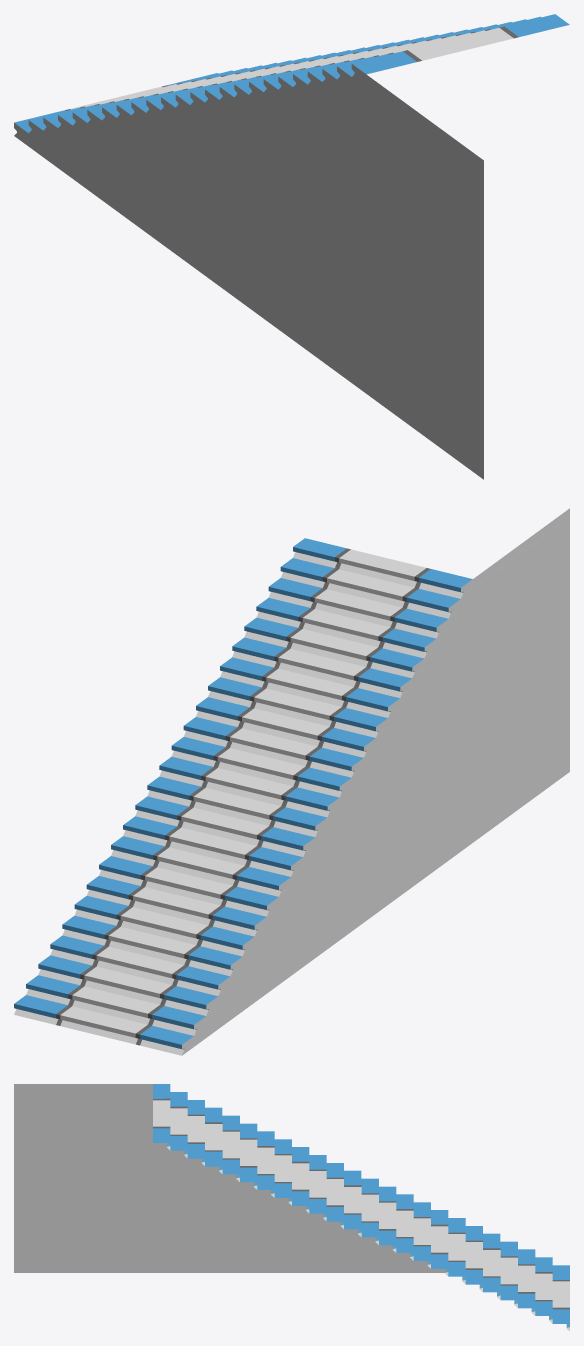
The model's file is StairwayLarge.fbx.
3 views of the same model, one above another, from view 1: azimuth 30°, elevation 25°; view 2: azimuth 150°, elevation 25°; view 3: azimuth 270°, elevation 25° (orthographic). The views are drawn at different scales.
Parts seen in each view (by area): view 1: StairwayLarge; view 2: StairwayLarge; view 3: StairwayLarge.
Part boxes in pixels (left/top/right/bottom): StairwayLarge: left=14, top=14, right=569, bottom=479; StairwayLarge: left=14, top=508, right=569, bottom=1055; StairwayLarge: left=14, top=1084, right=569, bottom=1331.
Size of what is drawn, in the model's own units: 4 by 6 by 16.
